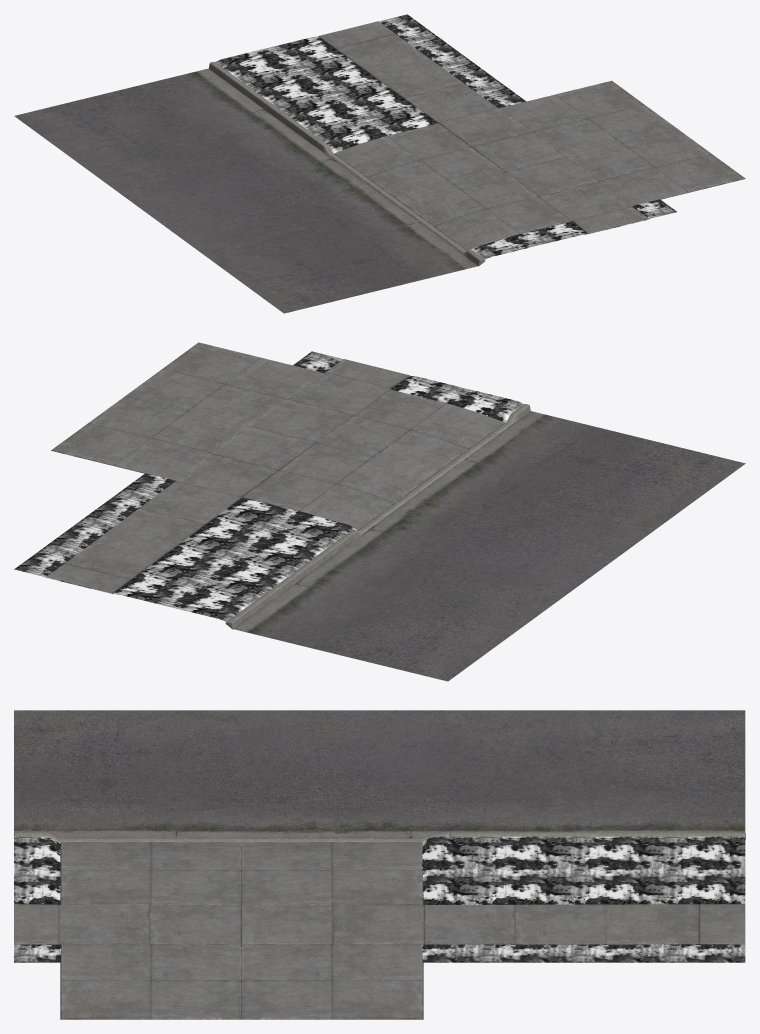
Rendered from SM_Road_Driveway_06_Right.fbx.
The picture shows the model from 3 angles, top to bottom: view 1: azimuth 30°, elevation 25°; view 2: azimuth 150°, elevation 25°; view 3: azimuth 270°, elevation 25°; orthographic projection. The views are drawn at different scales.
Visible parts, largest first — view 1: SM_Road_Driveway_06_Right; view 2: SM_Road_Driveway_06_Right; view 3: SM_Road_Driveway_06_Right.
Boxes of the visible parts, <box> form: SM_Road_Driveway_06_Right: <box>14,14,745,313</box>; SM_Road_Driveway_06_Right: <box>14,342,745,681</box>; SM_Road_Driveway_06_Right: <box>14,710,745,1019</box>.
Size of the model in its own units: 952 by 931 by 13.39.
Materials: 4 (4 with a texture image).
